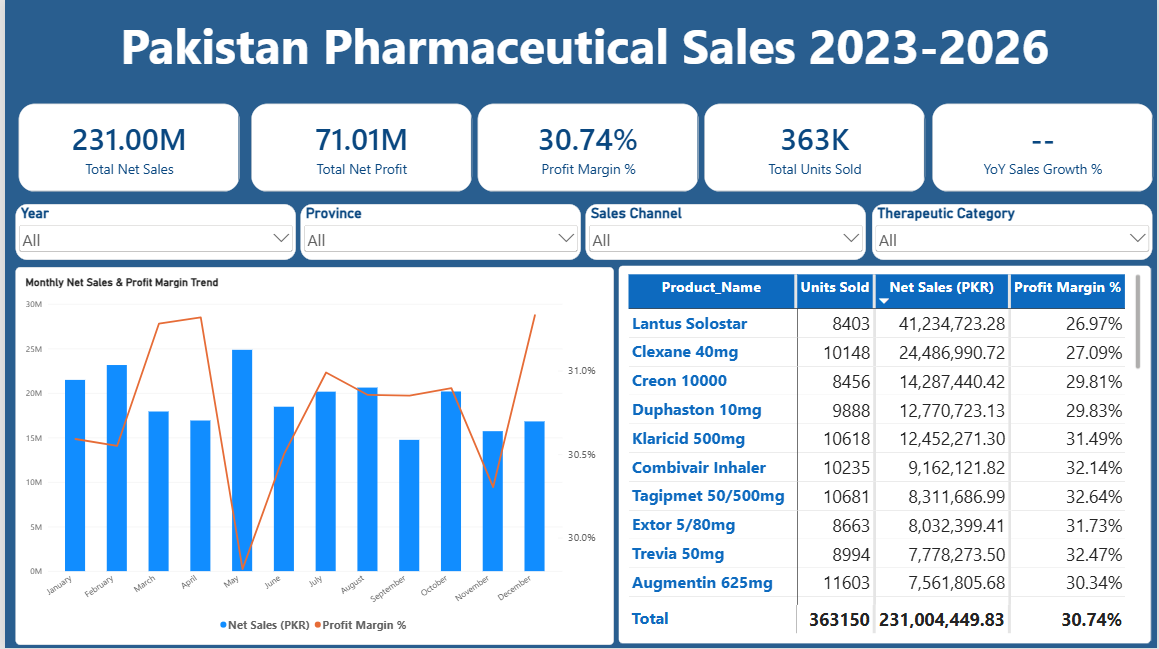

What the dashboard file says about the page in this screenshot:
{"tool":"powerbi","page":{"name":"Executive Overview","canvas":[1920,1080],"ordinal":0},"visuals":[{"type":"cardVisual","fields":{"Data":["Table.Total Net Sales"]},"box":[22.3,171.8,368.5,147.4],"z":0},{"type":"cardVisual","fields":{"Data":["Table.Total Net Profit"]},"box":[408.8,171.8,368.5,147.4],"z":1000},{"type":"cardVisual","fields":{"Data":["Table.Profit Margin %"]},"box":[788.1,171.8,368.5,147.4],"z":2000},{"type":"cardVisual","fields":{"Data":["Table.Total Units Sold"]},"box":[1165.1,171.8,368.5,147.4],"z":3000},{"type":"cardVisual","fields":{"Data":["Table.YoY Sales Growth %"]},"box":[1544.5,171.8,368.5,147.4],"z":4000},{"type":"slicer","fields":{"Values":["Date.Date.Variation.Date Hierarchy.Year"]},"box":[16.7,338.8,467.6,93.1],"z":5000},{"type":"lineClusteredColumnComboChart","title":"Monthly Net Sales & Profit Margin Trend","fields":{"Category":["Date.Date.Variation.Date Hierarchy.Month"],"Y":["Sum(Pakistan_Pharmaceutical_Sales_2023_2026.Net_Sales_PKR)"],"Y2":["Table.Profit Margin %"]},"box":[16.7,443.8,997.3,629.9],"z":6000},{"type":"pivotTable","fields":{"Rows":["Pakistan_Pharmaceutical_Sales_2023_2026.Product_Name"],"Values":["Sum(Pakistan_Pharmaceutical_Sales_2023_2026.Units_Sold)","Sum(Pakistan_Pharmaceutical_Sales_2023_2026.Net_Sales_PKR)","Table.Profit Margin %"]},"box":[1022.5,442.5,887.6,629.9],"z":7000},{"type":"slicer","fields":{"Values":["Pakistan_Pharmaceutical_Sales_2023_2026.Province"]},"box":[491.5,338.8,467.6,93.1],"z":8000},{"type":"slicer","fields":{"Values":["Pakistan_Pharmaceutical_Sales_2023_2026.Therapeutic_Category"]},"box":[1445.9,338.8,467.6,93.1],"z":9000},{"type":"slicer","fields":{"Values":["Pakistan_Pharmaceutical_Sales_2023_2026.Sales_Channel"]},"box":[968.7,338.8,467.6,93.1],"z":10000},{"type":"textbox","box":[21.5,0,1887.3,171.8],"z":11000}]}

Visuals, with their boxes in screenshot pixels (x1, y1, x2, y2), scaled from the page's 1920x1080 canvas onto the 1159x649 screenshot:
cardVisual - Table.Total Net Sales: l=13, t=103, r=236, b=192
cardVisual - Table.Total Net Profit: l=247, t=103, r=469, b=192
cardVisual - Table.Profit Margin %: l=476, t=103, r=698, b=192
cardVisual - Table.Total Units Sold: l=703, t=103, r=926, b=192
cardVisual - Table.YoY Sales Growth %: l=932, t=103, r=1155, b=192
slicer - Date.Date.Variation.Date Hierarchy.Year: l=10, t=204, r=292, b=260
"Monthly Net Sales & Profit Margin Trend" lineClusteredColumnComboChart: l=10, t=267, r=612, b=645
pivotTable - Pakistan_Pharmaceutical_Sales_2023_2026.Product_Name x Sum(Pakistan_Pharmaceutical_Sales_2023_2026.Units_Sold): l=617, t=266, r=1153, b=644
slicer - Pakistan_Pharmaceutical_Sales_2023_2026.Province: l=297, t=204, r=579, b=260
slicer - Pakistan_Pharmaceutical_Sales_2023_2026.Therapeutic_Category: l=873, t=204, r=1155, b=260
slicer - Pakistan_Pharmaceutical_Sales_2023_2026.Sales_Channel: l=585, t=204, r=867, b=260
textbox: l=13, t=0, r=1152, b=103
